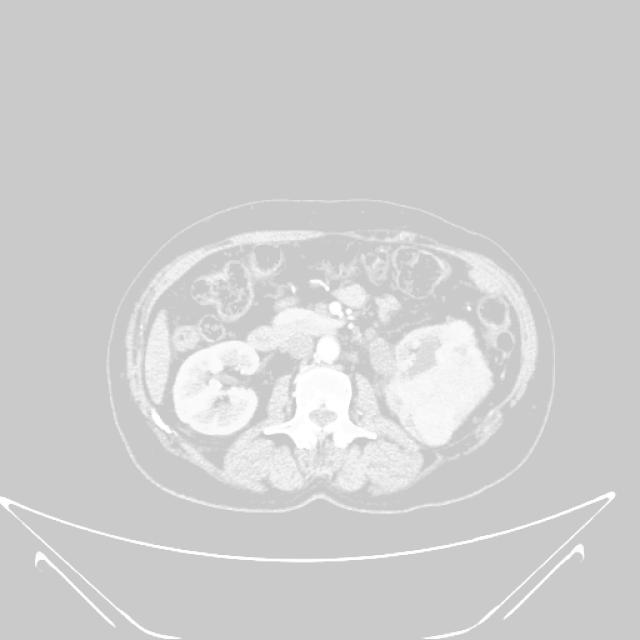TUMOR: (148, 270, 512, 431)
